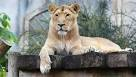lion: (37, 3, 136, 76)
